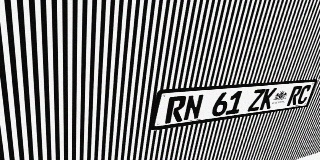plate: (151, 79, 319, 131)
